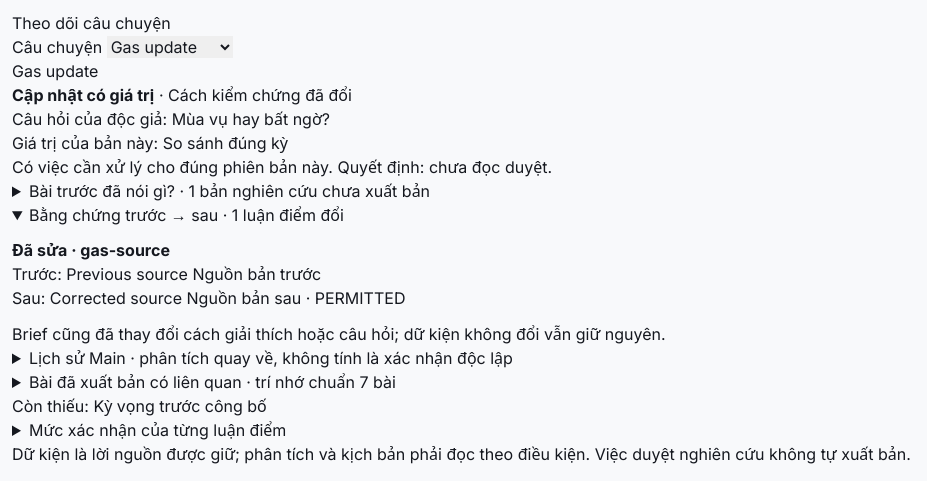
Test: evolving story desk › separates source delta, unpublished package history and reconciled published memory
expect the text "Cập nhật có giá trị" is shown: met, box left=12, top=85, right=154, bottom=105
expect the heading "Bài trước đã nói gì? · 1 bản nghiên cứu chưa xuất bản" is shown: met, box left=29, top=181, right=430, bottom=201
Step 1. Select "Company gap" in the dropdown labelled "Câu chuyện" → (170, 47), box left=107, top=36, right=233, bottom=58
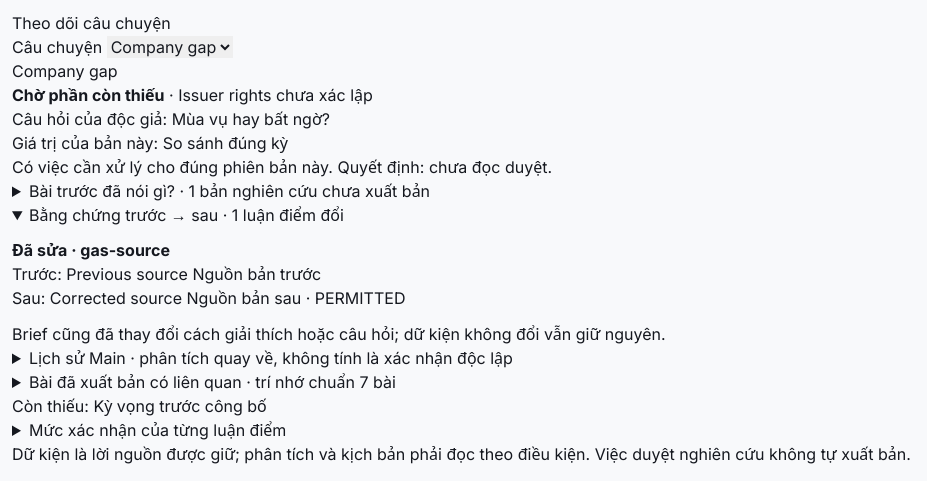
expect the text "Chờ phần còn thiếu" is shown: met, box left=12, top=85, right=164, bottom=105
expect the text "Chờ phần còn thiếu · Issuer rights chưa xác lập" is shown: met, box left=12, top=85, right=373, bottom=105
